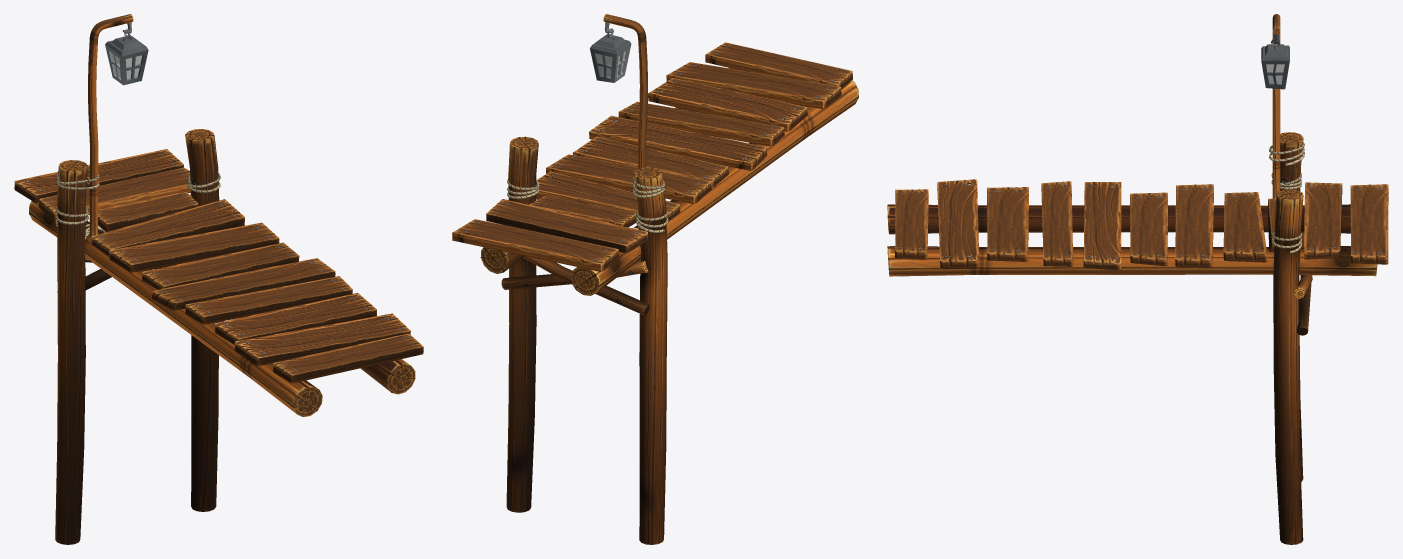
Rendered from Pier.fbx.
3 views of the same model, side by side, from view 1: azimuth 30°, elevation 25°; view 2: azimuth 150°, elevation 25°; view 3: azimuth 270°, elevation 25° (orthographic). The views are drawn at different scales.
Parts seen in each view (by area): view 1: Straight beams, SupportBottom Beams, PLanks.009, PLanks.004, PLanks.006, PLanks.008, PLanks.007, PLanks.003, PLanks.010, PLanks.005, PLanks, PLanks.001 (+4 smaller); view 2: Straight beams, SupportBottom Beams, PLanks.006, PLanks, PLanks.008, PLanks.001, PLanks.009, PLanks.007, PLanks.010, PLanks.004, PLanks.005, PLanks.003 (+6 smaller); view 3: SupportBottom Beams, Straight beams, PLanks.009, PLanks.006, PLanks.004, PLanks.008, PLanks, PLanks.001, PLanks.003, PLanks.005, PLanks.007, PLanks.010 (+2 smaller).
Part boxes in pixels (<box>): Straight beams: <box>55,129,219,544</box>; SupportBottom Beams: <box>29,201,415,416</box>; PLanks.009: <box>234,313,410,365</box>; PLanks.004: <box>109,222,279,272</box>; PLanks.006: <box>151,258,335,310</box>; PLanks.008: <box>214,293,376,344</box>; PLanks.007: <box>185,276,352,324</box>; PLanks.003: <box>91,199,244,256</box>; PLanks.010: <box>273,333,423,383</box>; PLanks.005: <box>141,242,299,289</box>; PLanks: <box>14,149,183,203</box>; PLanks.001: <box>38,167,190,221</box>; Straight beams: <box>506,136,667,544</box>; SupportBottom Beams: <box>480,68,858,295</box>; PLanks.006: <box>589,115,767,170</box>; PLanks: <box>452,219,618,271</box>; PLanks.008: <box>648,78,807,131</box>; PLanks.001: <box>486,199,647,253</box>; PLanks.009: <box>666,62,841,108</box>; PLanks.007: <box>618,101,784,146</box>; PLanks.010: <box>705,42,852,89</box>; PLanks.004: <box>546,154,711,203</box>; PLanks.005: <box>572,136,729,187</box>; PLanks.003: <box>536,171,680,221</box>; SupportBottom Beams: <box>887,204,1377,276</box>; Straight beams: <box>1273,132,1303,544</box>; PLanks.009: <box>937,179,979,268</box>; PLanks.006: <box>1083,182,1121,270</box>; PLanks.004: <box>1175,184,1213,267</box>; PLanks.008: <box>987,187,1028,261</box>; PLanks: <box>1350,184,1388,264</box>; PLanks.001: <box>1303,182,1342,259</box>; PLanks.003: <box>1223,192,1267,262</box>; PLanks.005: <box>1130,192,1167,266</box>; PLanks.007: <box>1041,181,1073,266</box>; PLanks.010: <box>895,189,928,259</box>.
Size of the model in its own units: 140 by 406 by 386.
